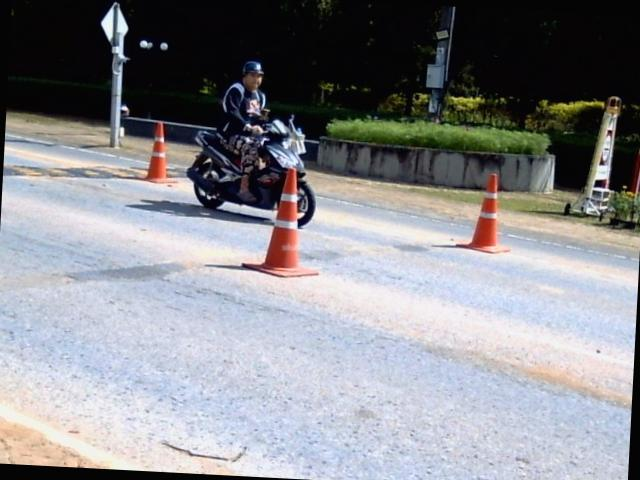helmet: (242, 56, 262, 90)
motor: (186, 118, 315, 225)
person: (217, 60, 265, 201)
